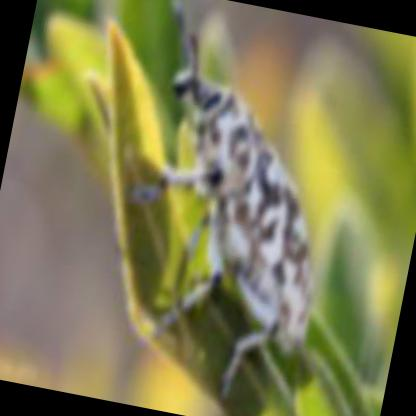ash weevil: (134, 74, 314, 392)
